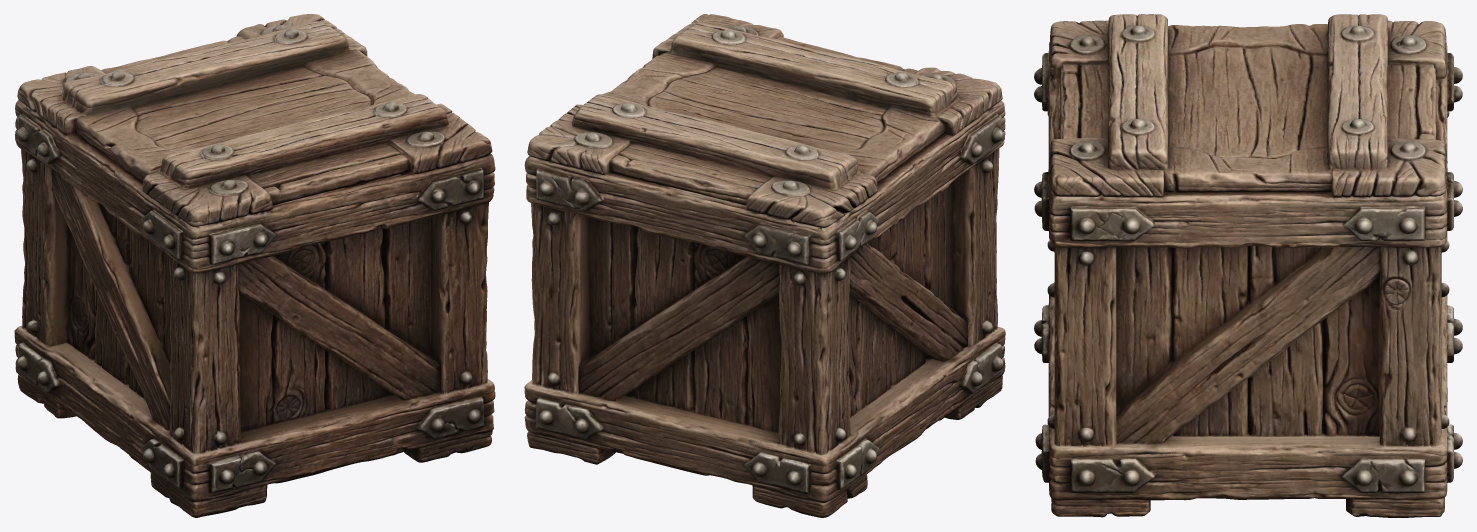
File: supply-crate.glb
3 views of the same model, side by side, from view 1: azimuth 30°, elevation 25°; view 2: azimuth 150°, elevation 25°; view 3: azimuth 270°, elevation 25° (orthographic). The views are drawn at different scales.
Visible parts, largest first — view 1: tripo_node_fe35b689-38b9-478b-aaa8-6acf315294a5; view 2: tripo_node_fe35b689-38b9-478b-aaa8-6acf315294a5; view 3: tripo_node_fe35b689-38b9-478b-aaa8-6acf315294a5.
Part boxes in pixels (left/top/right/bottom): tripo_node_fe35b689-38b9-478b-aaa8-6acf315294a5: left=14, top=14, right=495, bottom=517; tripo_node_fe35b689-38b9-478b-aaa8-6acf315294a5: left=524, top=14, right=1005, bottom=517; tripo_node_fe35b689-38b9-478b-aaa8-6acf315294a5: left=1034, top=14, right=1462, bottom=517.
Size of the model in its own units: 0.9509 by 0.9202 by 0.9789.
Materials: 1 (1 with a texture image).
